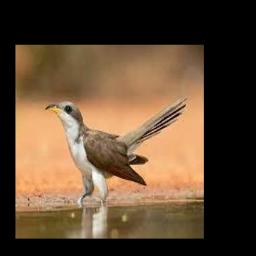Cuckoo: (45, 94, 187, 201)
